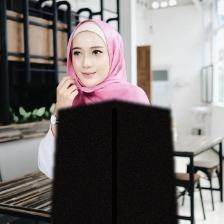Cadar_Niqab: (50, 17, 178, 224)
